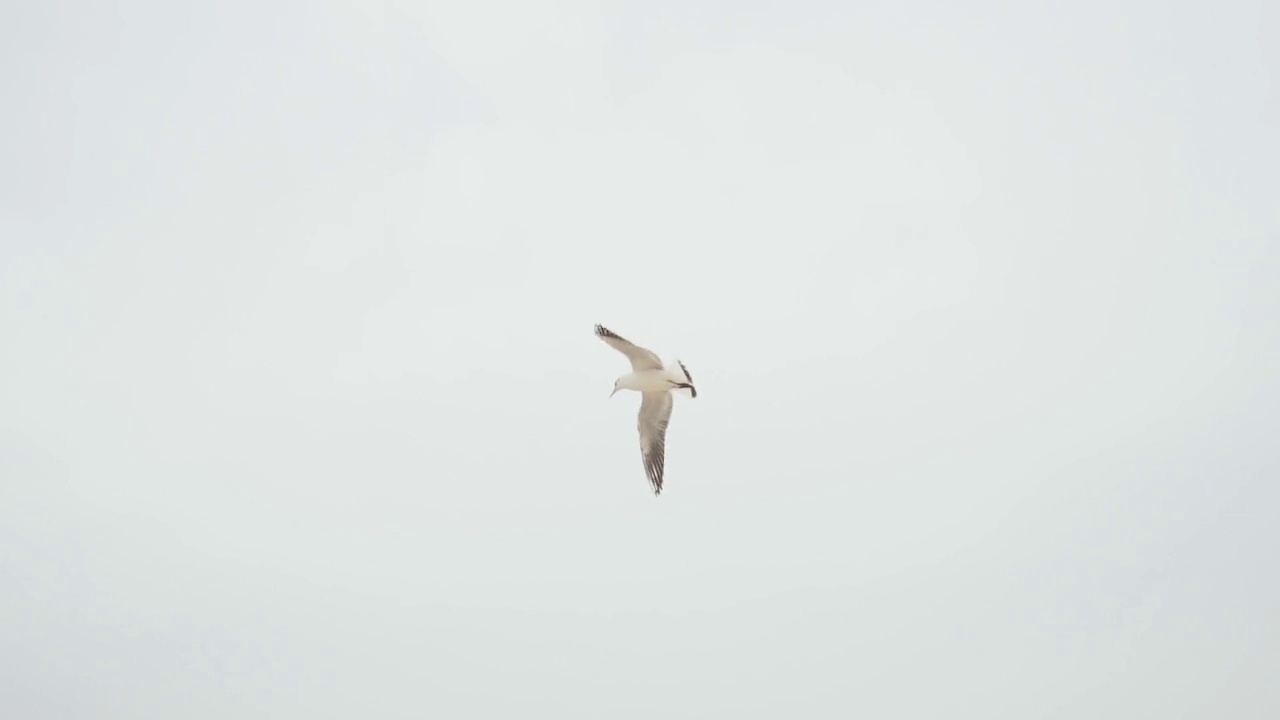bird: (594, 325, 696, 496)
